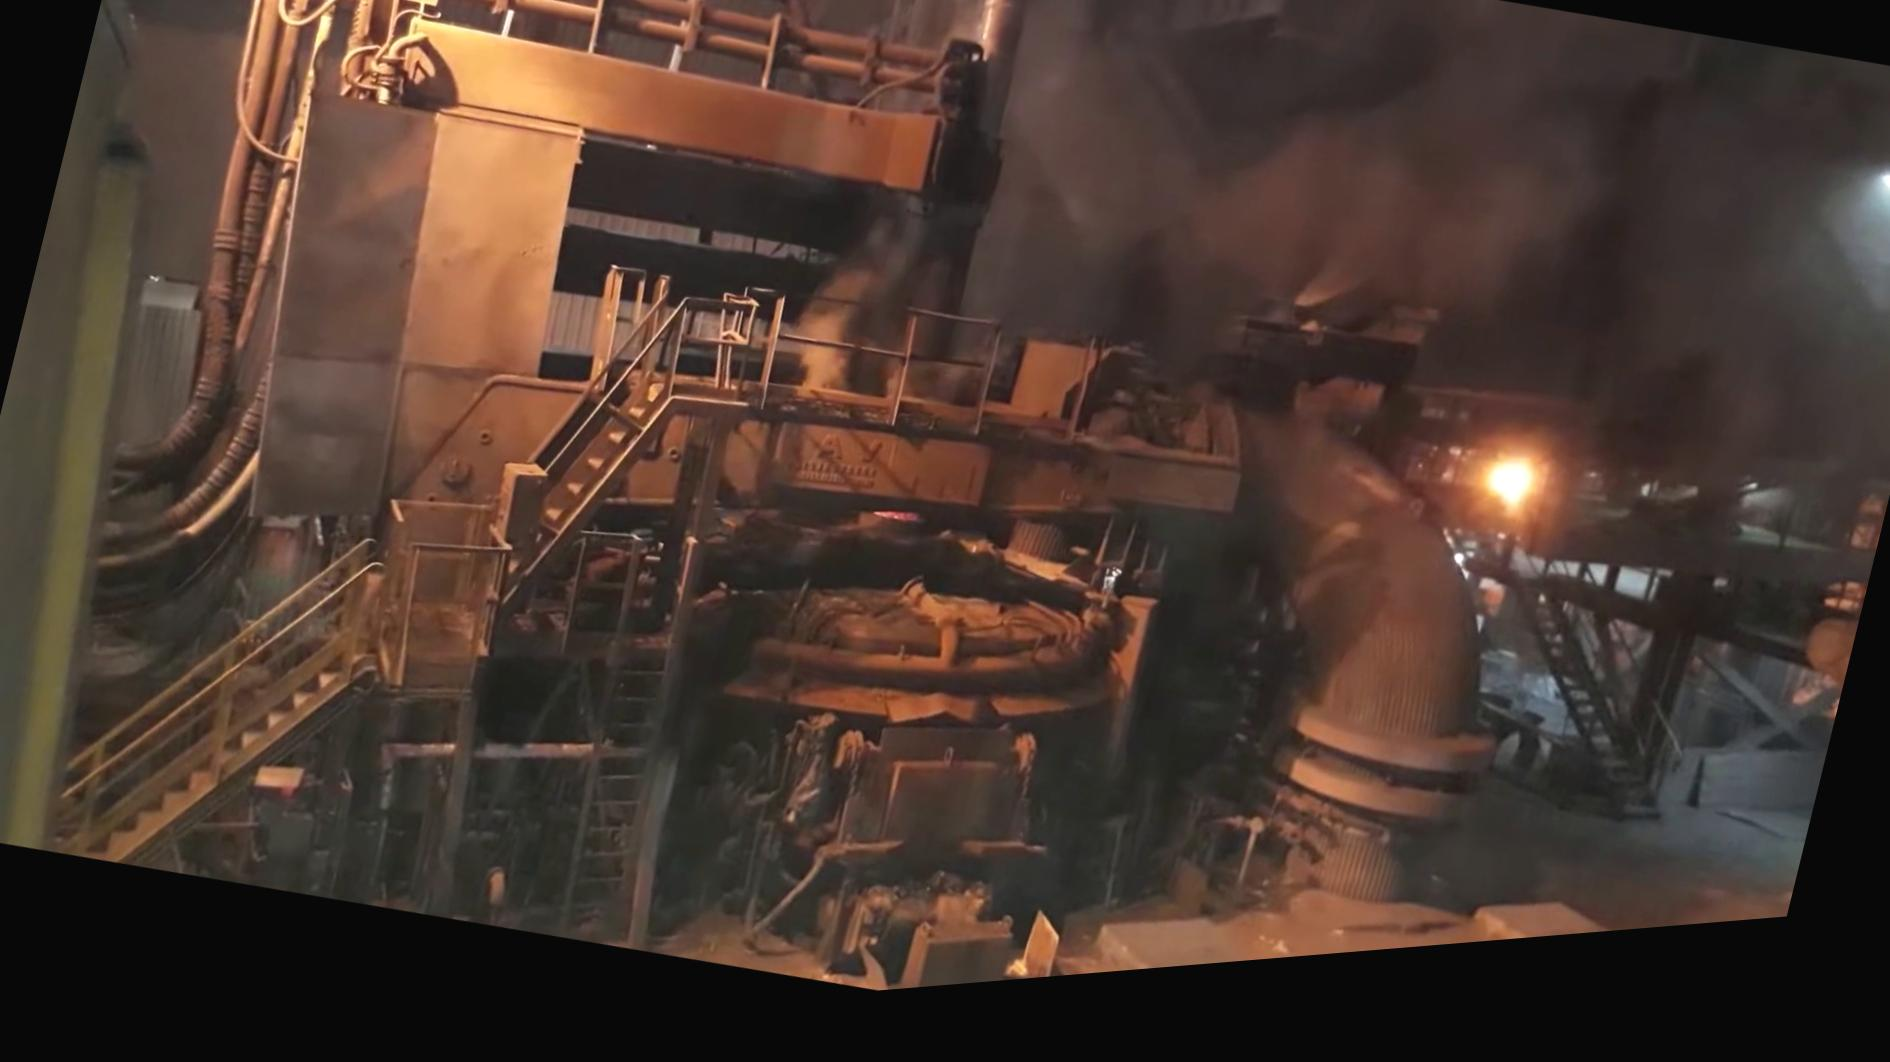fire: (1356, 334, 1700, 569)
